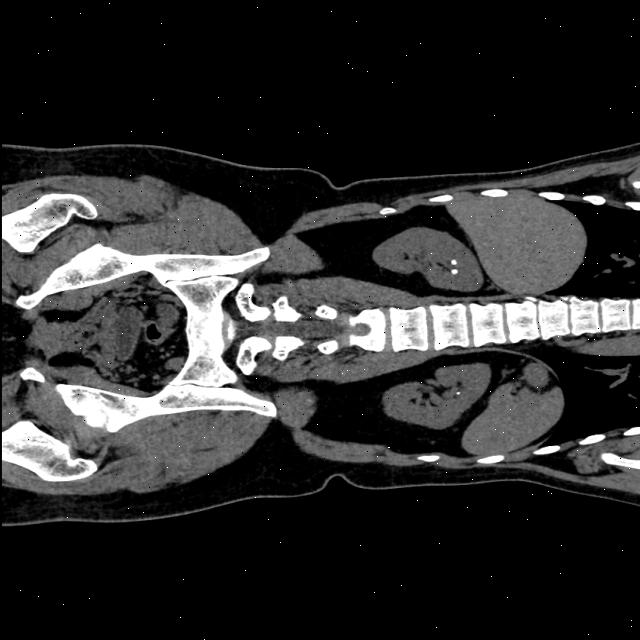kidneystone: (450, 268, 458, 274), (451, 259, 456, 266)
